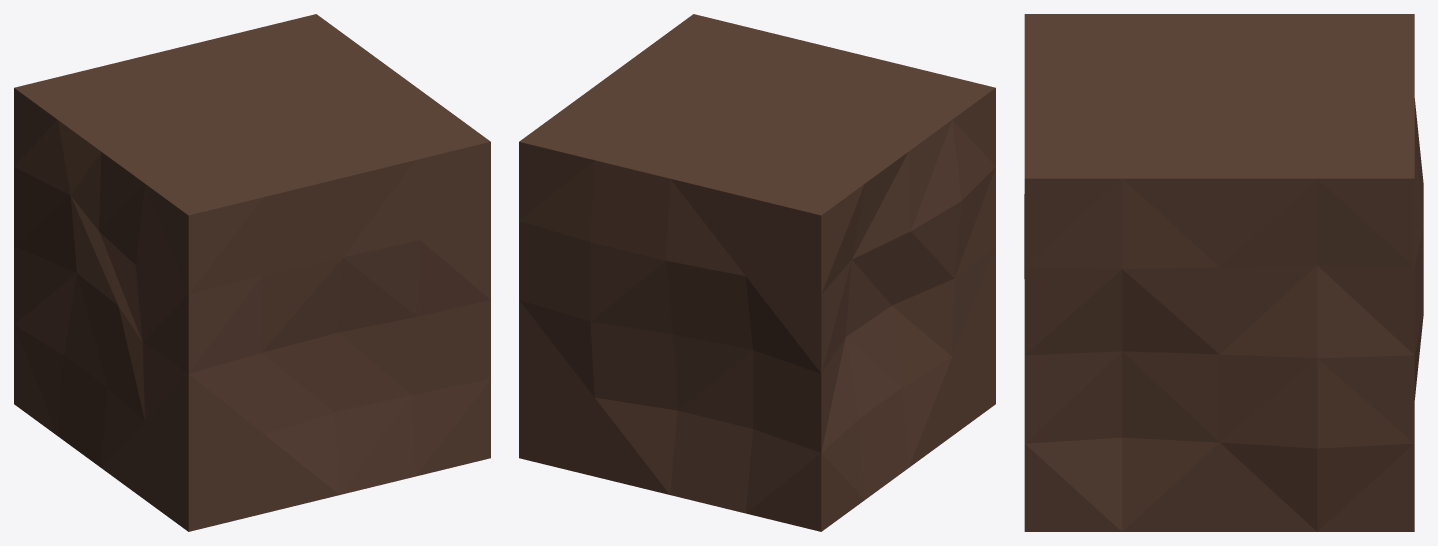
Rendered from dirt.fbx.
3 renders of one model, left to right at view 1: azimuth 30°, elevation 25°; view 2: azimuth 150°, elevation 25°; view 3: azimuth 270°, elevation 25°, orthographic. The views are drawn at different scales.
Parts seen in each view (by area): view 1: Cube; view 2: Cube; view 3: Cube.
Part boxes in pixels (x1,y1,x2,y2): Cube: [14, 14, 490, 531]; Cube: [519, 14, 995, 531]; Cube: [1024, 14, 1423, 531].
Size of the model in its own units: 212 by 207 by 205.
